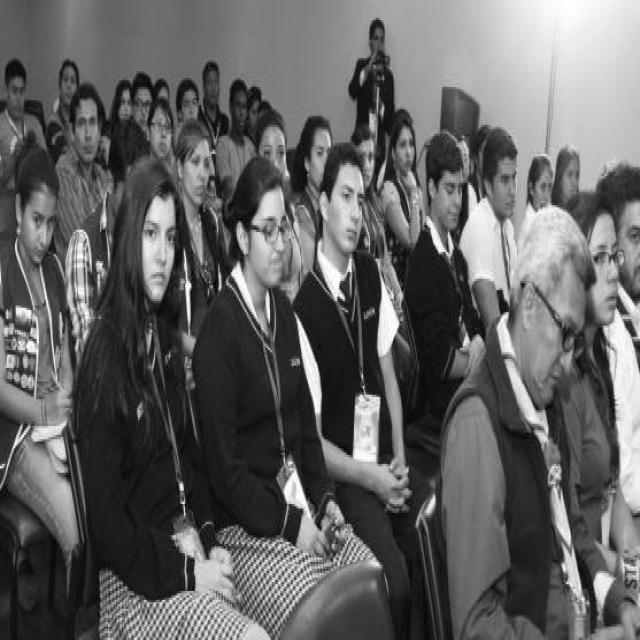person: (476, 156, 639, 631), (109, 158, 227, 640), (315, 140, 418, 640), (398, 126, 487, 637), (237, 145, 312, 640), (4, 146, 80, 605), (573, 183, 621, 390), (68, 73, 109, 250), (177, 122, 219, 282), (351, 5, 398, 147), (601, 150, 640, 316), (296, 106, 336, 253), (392, 107, 420, 259), (0, 58, 37, 161), (55, 15, 82, 152), (257, 110, 288, 178), (351, 120, 377, 201), (128, 67, 152, 149), (148, 102, 176, 162), (558, 136, 582, 205), (227, 74, 251, 142), (527, 147, 551, 212), (110, 47, 129, 129), (202, 52, 221, 121), (175, 76, 201, 125), (248, 76, 260, 145)
